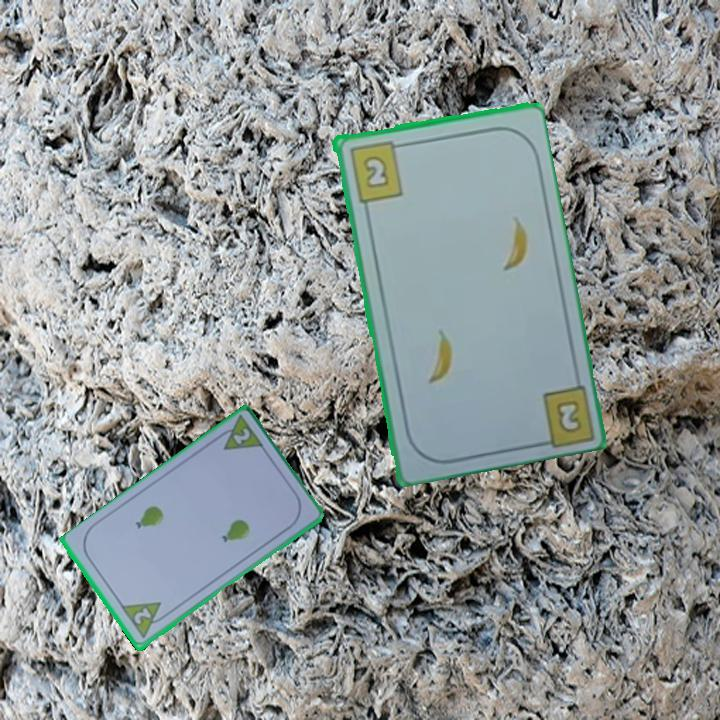2b: (345, 136, 407, 205), (552, 396, 585, 436)
2p: (130, 604, 154, 628), (229, 425, 253, 448)
